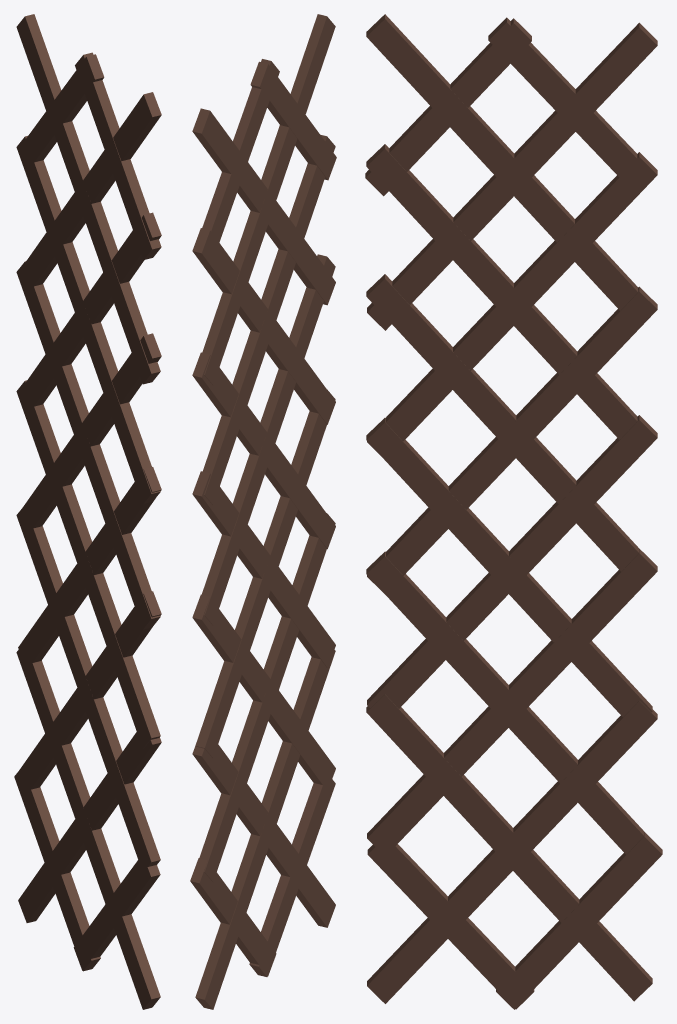
Rendered from Lattice.fbx.
3 renders of one model, left to right at view 1: azimuth 30°, elevation 25°; view 2: azimuth 150°, elevation 25°; view 3: azimuth 270°, elevation 25°, orthographic. The views are drawn at different scales.
Parts seen in each view (by area): view 1: polySurface287; view 2: polySurface287; view 3: polySurface287.
Part boxes in pixels (x1,y1,x2,y2): polySurface287: (14,14,161,1009); polySurface287: (190,14,336,1009); polySurface287: (365,14,662,1009).
Size of the model in its own units: 3.8 by 309 by 83.89.
